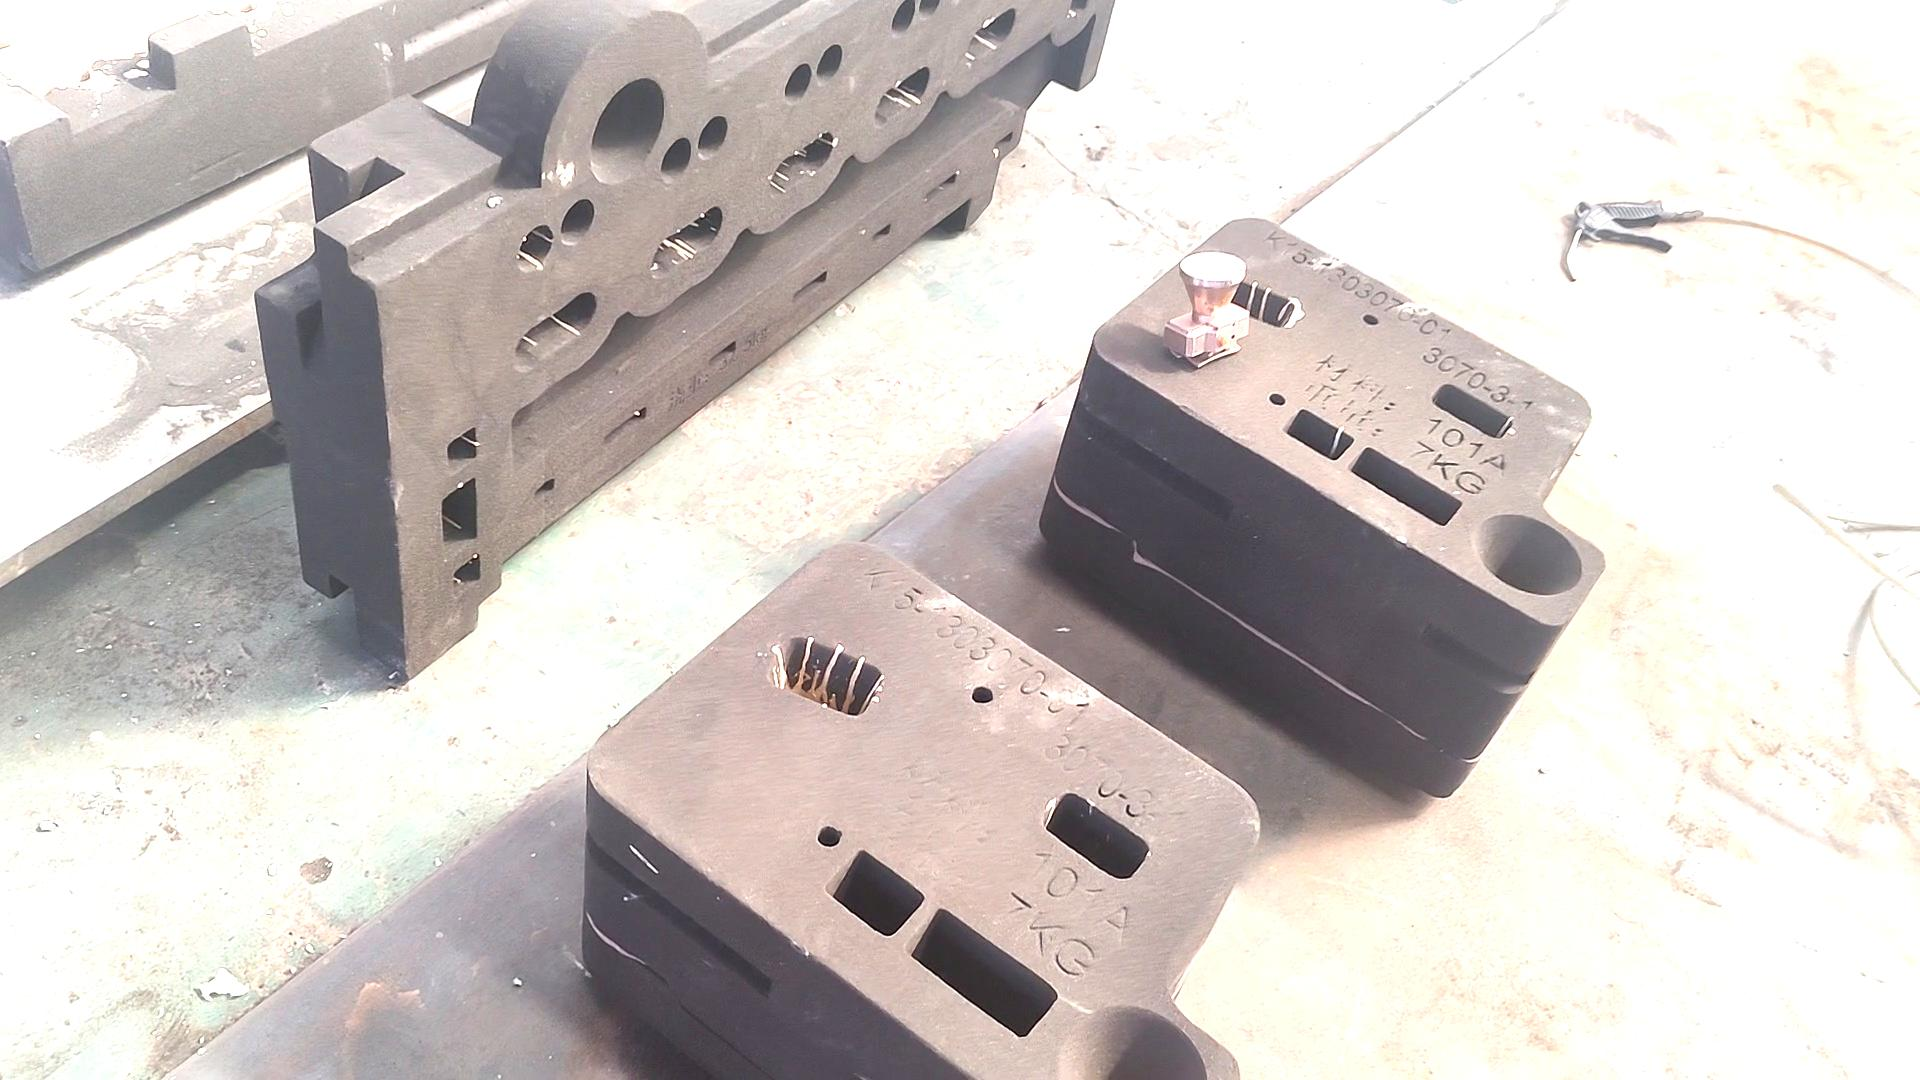pouring hole: (1058, 1004, 1207, 1080), (1476, 513, 1582, 596), (589, 78, 665, 183)
